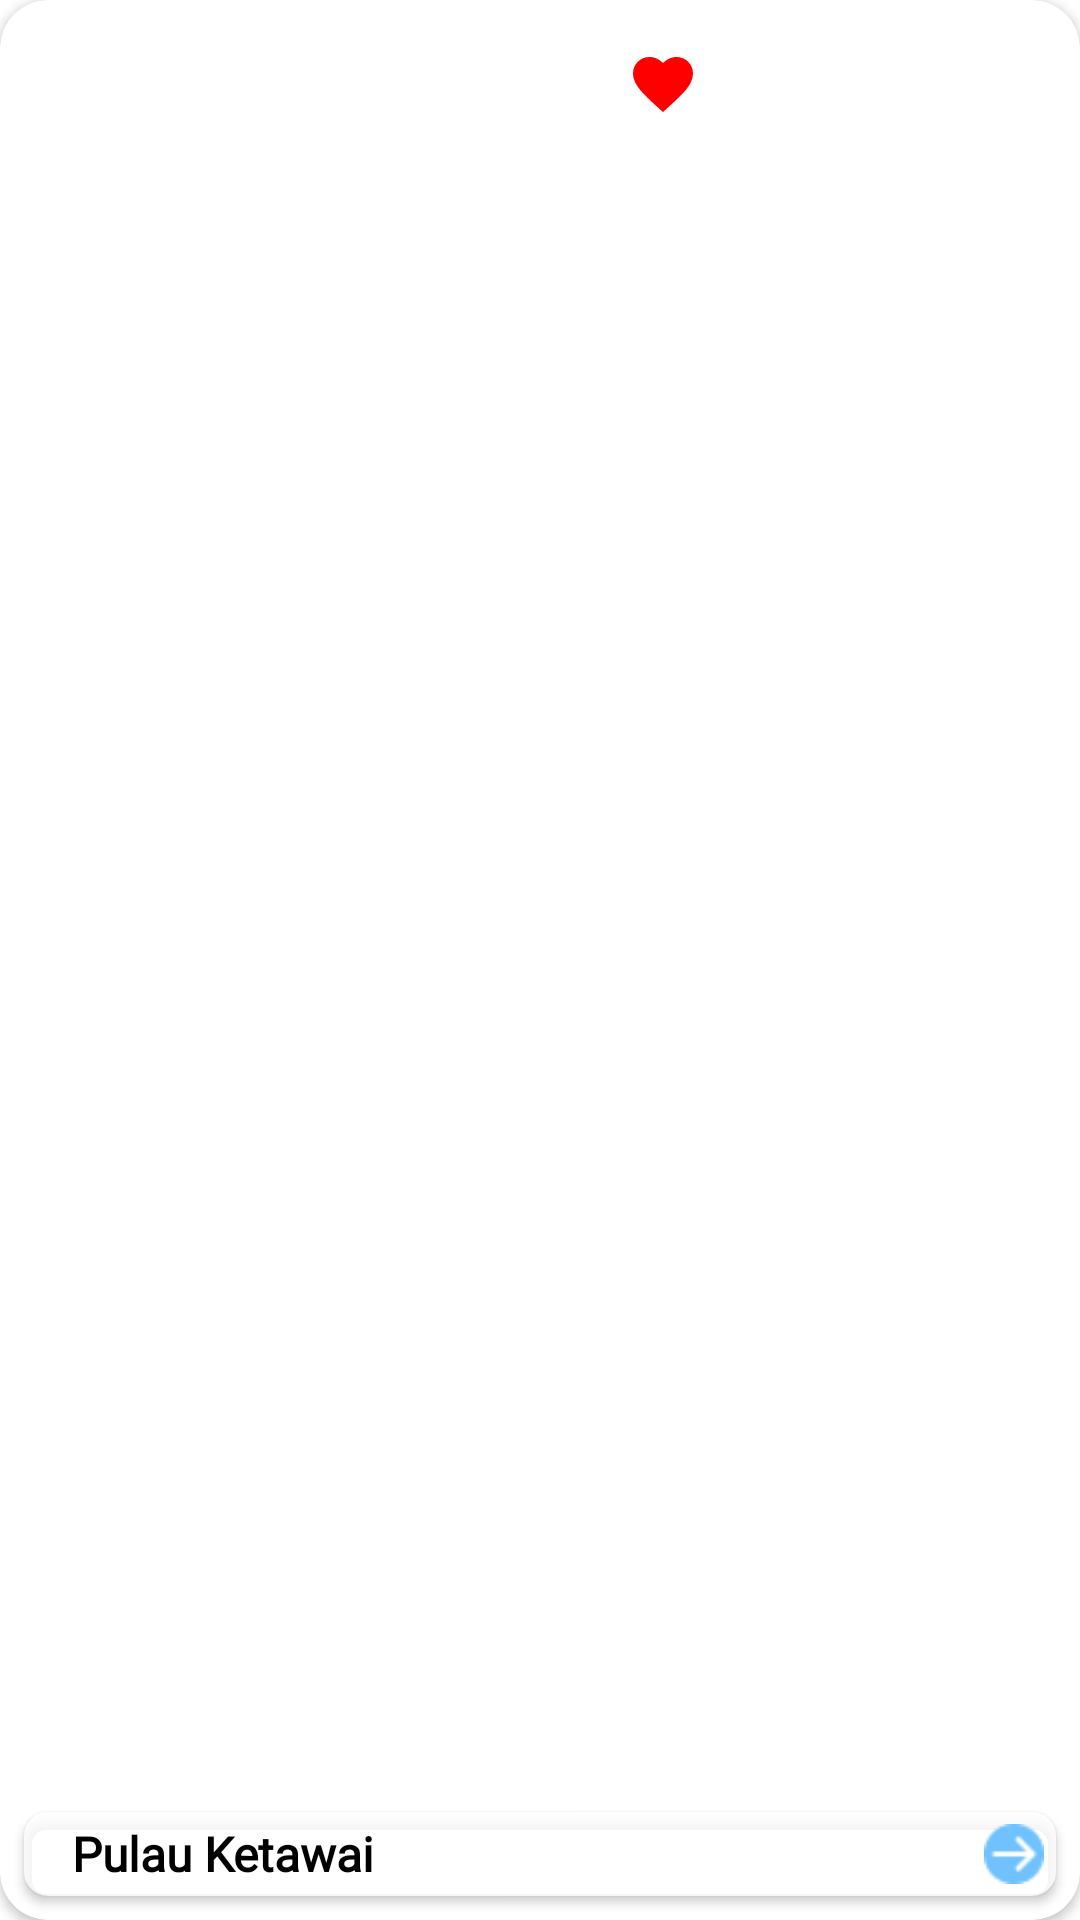

Screen size 1080w x 1920h. Icon name, then its box in pixels as (x1, y1, x2, y2):
Favorite: (633, 57, 693, 112)
Lanjut: (984, 1824, 1044, 1884)
